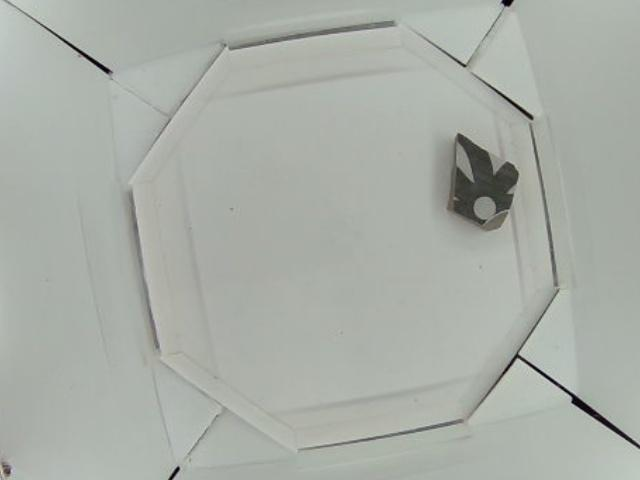China: (446, 132, 523, 227)
